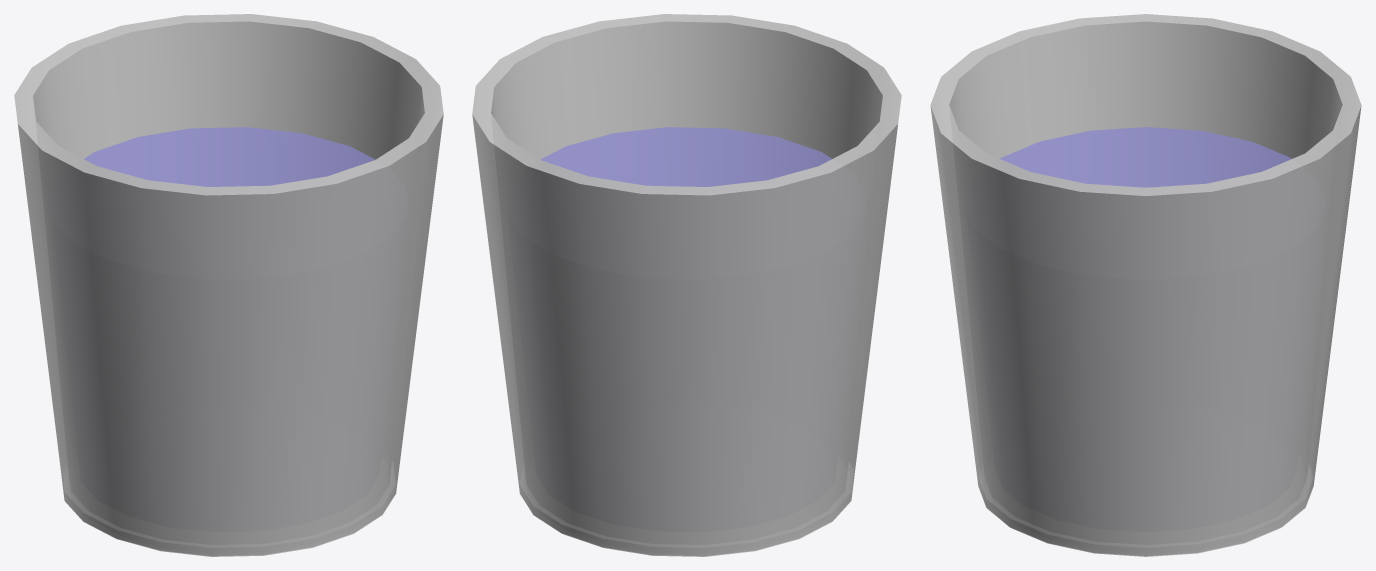
File: Cup.fbx
The picture shows the model from 3 angles, left to right: view 1: azimuth 30°, elevation 25°; view 2: azimuth 150°, elevation 25°; view 3: azimuth 270°, elevation 25°; orthographic projection.
Parts seen in each view (by area): view 1: pPipe1, pCylinder2, pCylinder1; view 2: pPipe1, pCylinder2, pCylinder1; view 3: pPipe1, pCylinder2, pCylinder1.
Boxes of the visible parts, x1,y1,x2,y2 form: pPipe1: [14, 14, 443, 556]; pCylinder2: [84, 127, 375, 186]; pCylinder1: [61, 461, 396, 556]; pPipe1: [472, 14, 901, 556]; pCylinder2: [540, 127, 831, 186]; pCylinder1: [519, 461, 854, 556]; pPipe1: [930, 14, 1361, 556]; pCylinder2: [999, 127, 1292, 187]; pCylinder1: [978, 466, 1313, 556].
Bounding box in the file's own units: 2.57 × 2.51 × 2.57.
